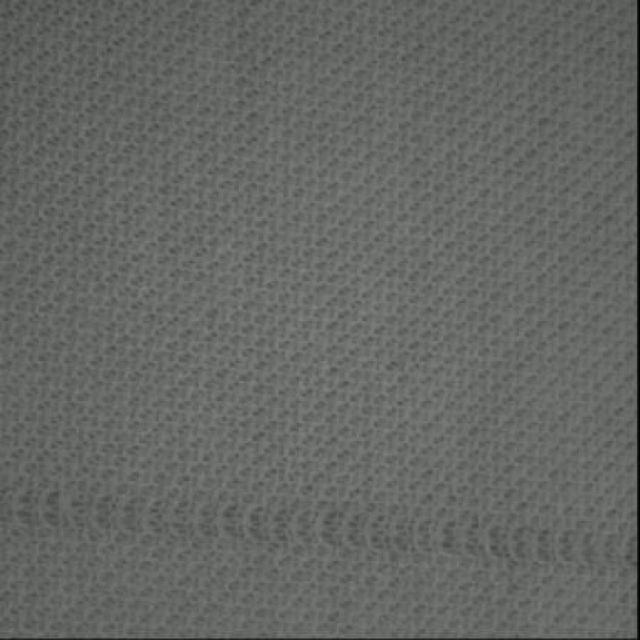Line: (1, 490, 637, 572)
